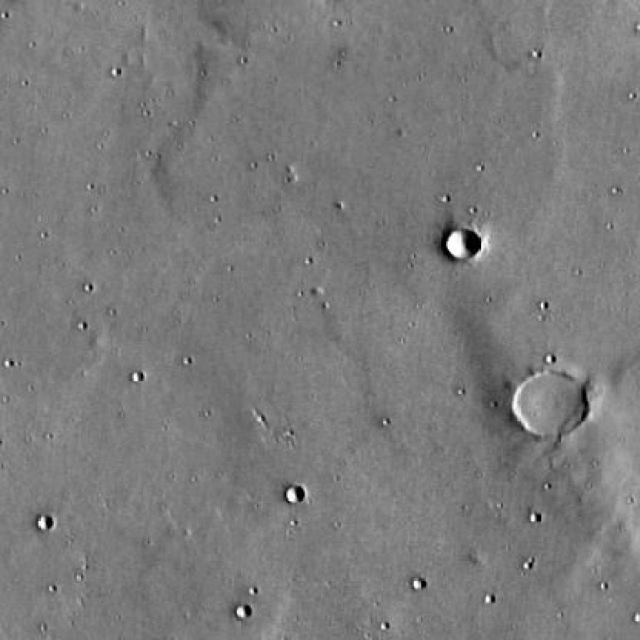crater: (509, 362, 593, 438), (442, 228, 480, 264), (284, 484, 304, 501)
